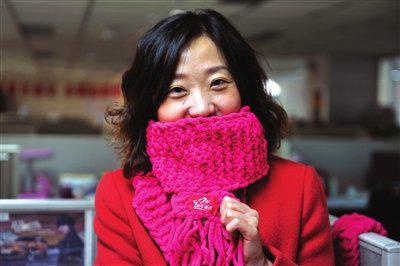WRONG: (151, 61, 245, 159)
